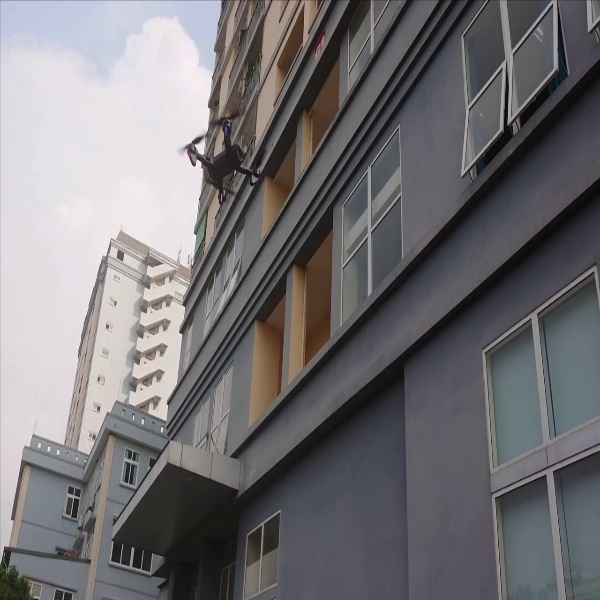drone: (180, 106, 274, 204)
